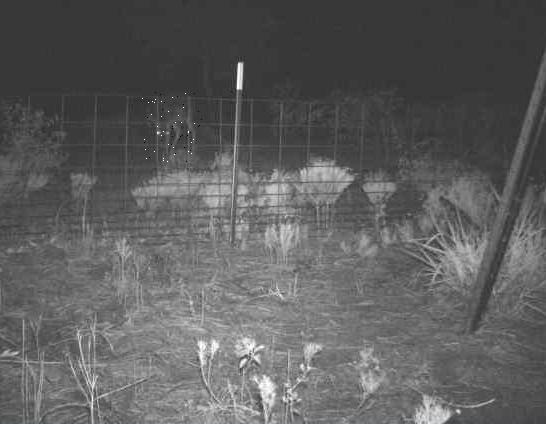Deer: (142, 90, 203, 162)
